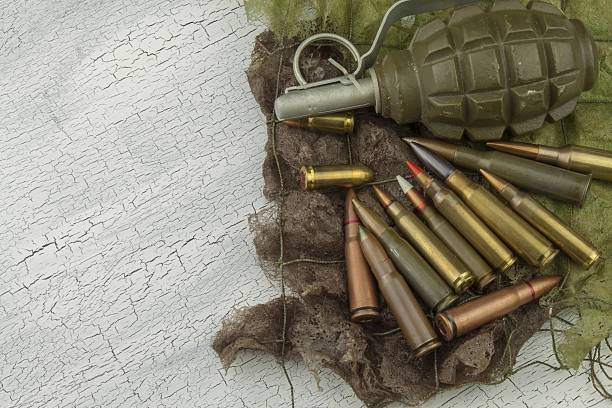e1: (275, 3, 604, 138)
